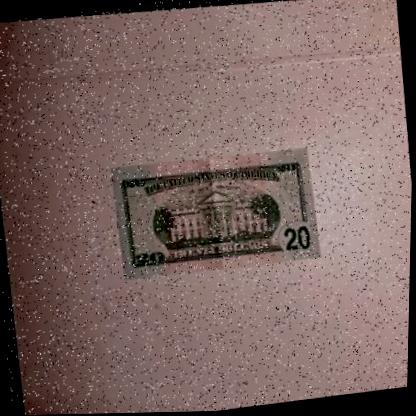twenty-back: (107, 137, 323, 290)
